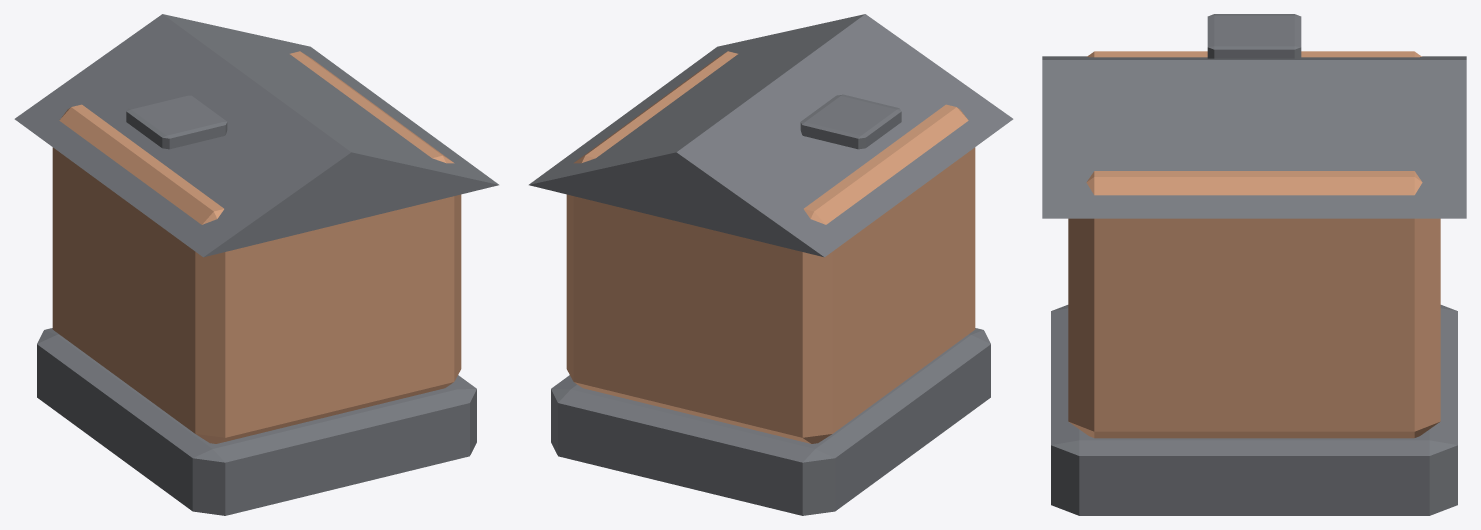
File: b11_cedar_backyard_dog_house.glb
The picture shows the model from 3 angles, left to right: view 1: azimuth 30°, elevation 25°; view 2: azimuth 150°, elevation 25°; view 3: azimuth 270°, elevation 25°; orthographic projection. The views are drawn at different scales.
Parts seen in each view (by area): view 1: b11_cedar_backyard_dog_house; view 2: b11_cedar_backyard_dog_house; view 3: b11_cedar_backyard_dog_house.
Part boxes in pixels (<box>): b11_cedar_backyard_dog_house: <box>14,14,498,515</box>; b11_cedar_backyard_dog_house: <box>529,14,1013,515</box>; b11_cedar_backyard_dog_house: <box>1042,14,1466,515</box>.
Bounding box in the file's own units: 1.16 × 1.27 × 1.28.
